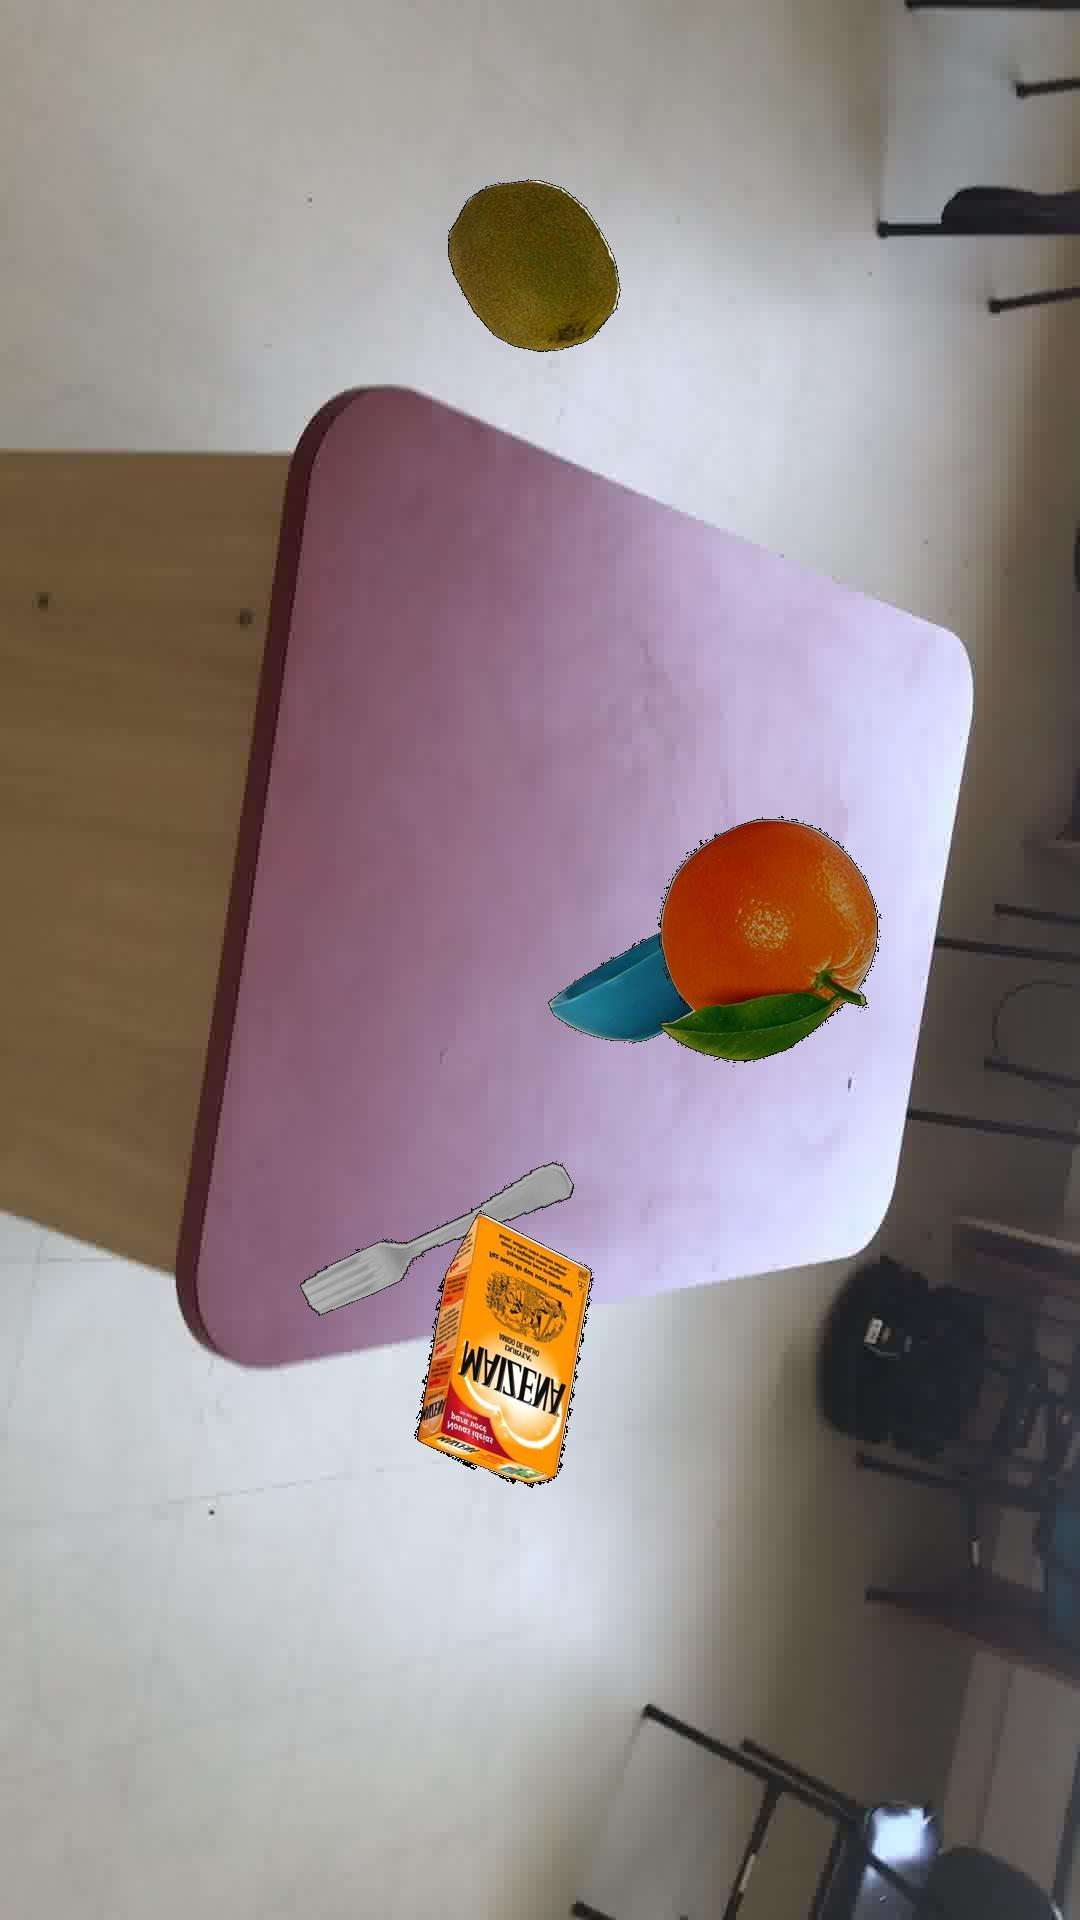bowl: (546, 931, 691, 1042)
fork: (298, 1160, 572, 1315)
kiwi: (447, 178, 620, 351)
orange: (657, 815, 877, 1062)
